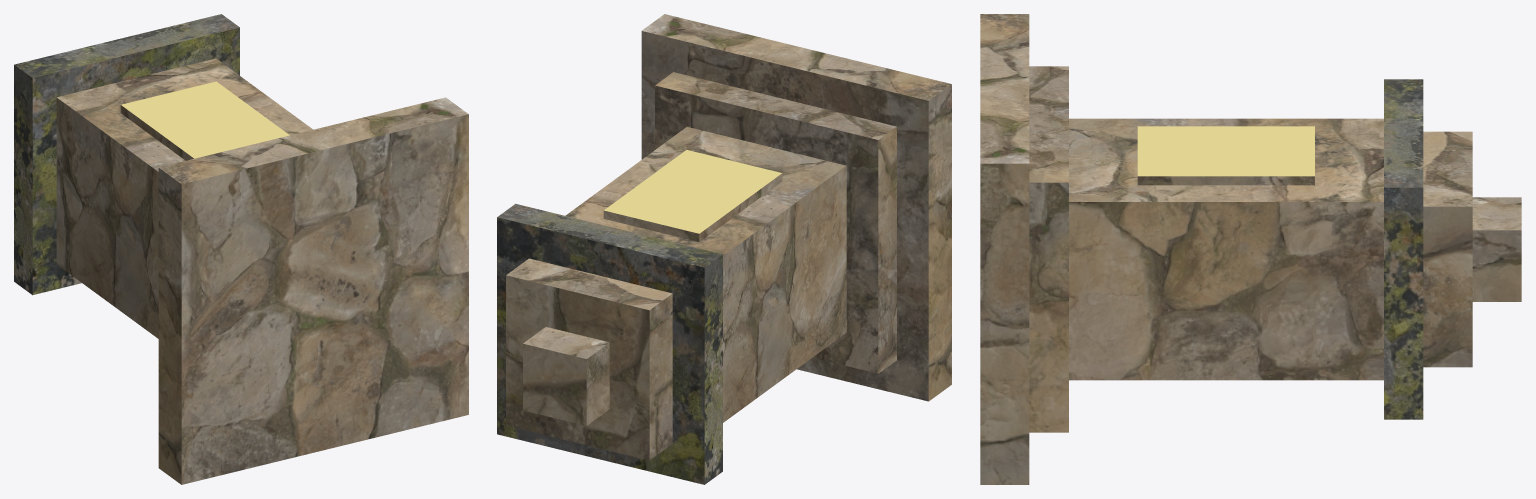
File: Ancient_Shrine_Obelisk.fbx
The picture shows the model from 3 angles, left to right: view 1: azimuth 30°, elevation 25°; view 2: azimuth 150°, elevation 25°; view 3: azimuth 270°, elevation 25°; orthographic projection. The views are drawn at different scales.
Parts seen in each view (by area): view 1: Ancient_Shrine_Obelisk; view 2: Ancient_Shrine_Obelisk; view 3: Ancient_Shrine_Obelisk.
Part boxes in pixels (<box>): Ancient_Shrine_Obelisk: <box>14,14,468,484</box>; Ancient_Shrine_Obelisk: <box>497,14,951,484</box>; Ancient_Shrine_Obelisk: <box>980,14,1521,484</box>.
Bounding box in the file's own units: 3.6 × 3.6 × 5.5.
